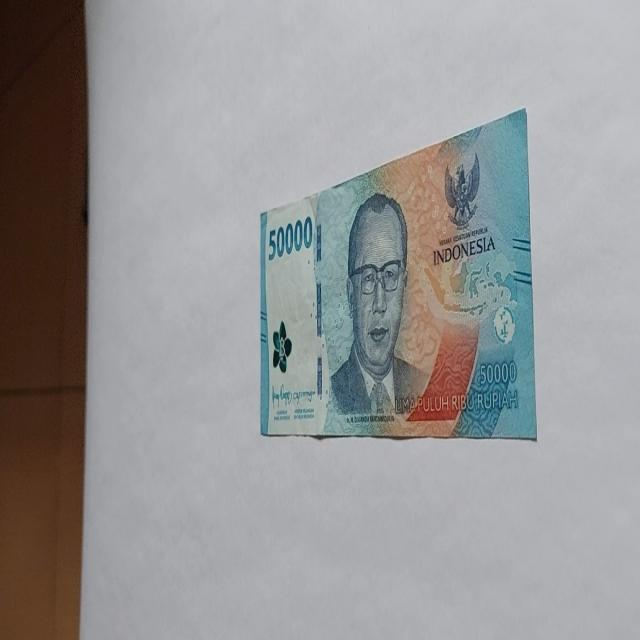lima puluh ribu rupiah: (258, 106, 536, 442), (324, 190, 428, 426)
